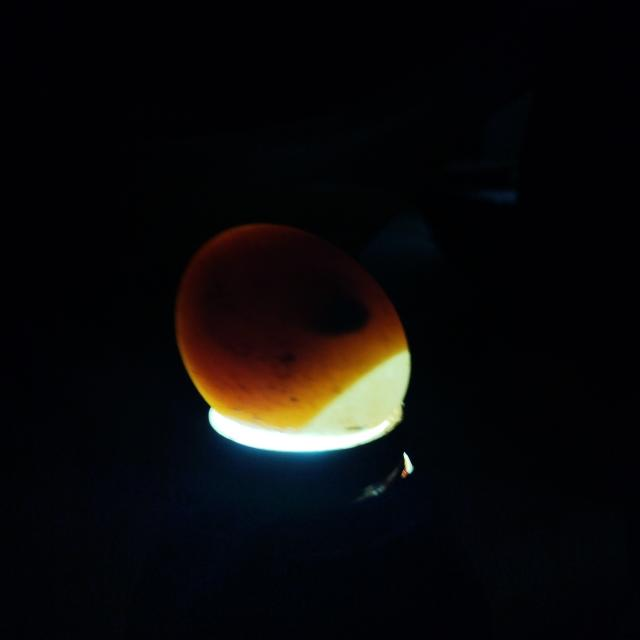Area Infectada: (200, 231, 373, 366)
